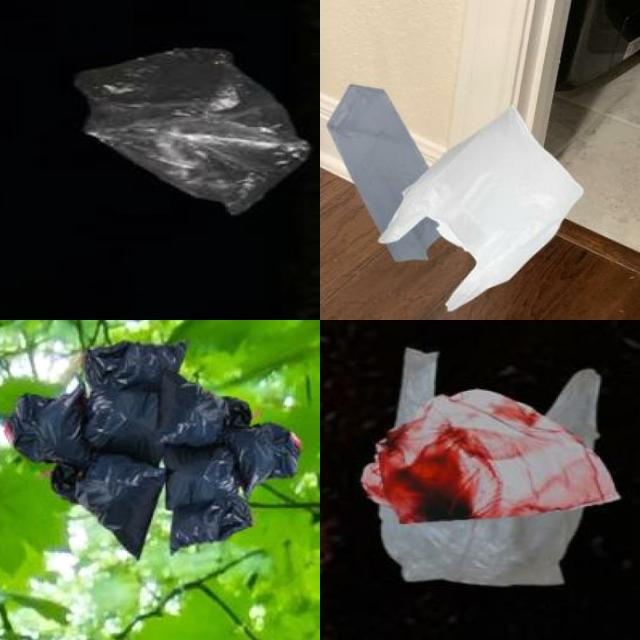Single-layer Plastic: (361, 349, 619, 586), (379, 106, 582, 311), (75, 49, 310, 215), (361, 390, 619, 524), (76, 455, 165, 558), (8, 385, 91, 469), (84, 385, 162, 464), (225, 424, 301, 493), (160, 375, 229, 448), (85, 341, 186, 388), (165, 446, 236, 509)
